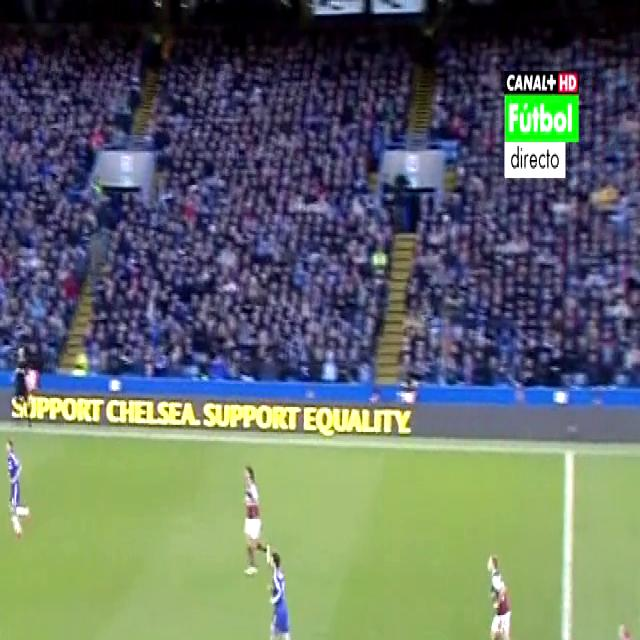referee: (11, 348, 50, 434)
soccer-player: (232, 454, 272, 586), (477, 537, 527, 640), (258, 546, 306, 640), (0, 427, 35, 544), (604, 611, 640, 640)
